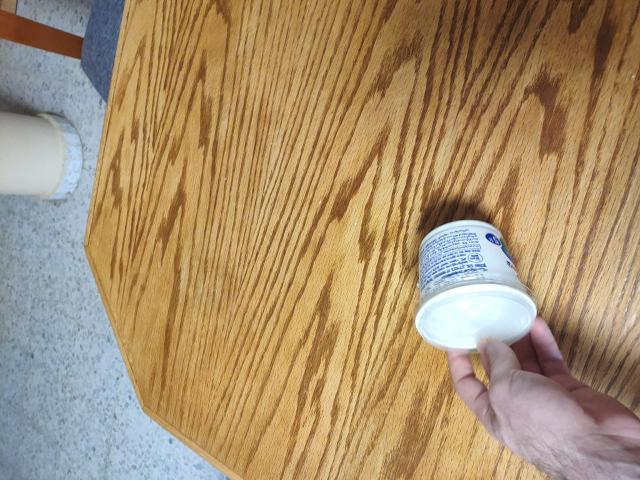cotage: (404, 226, 539, 354)
